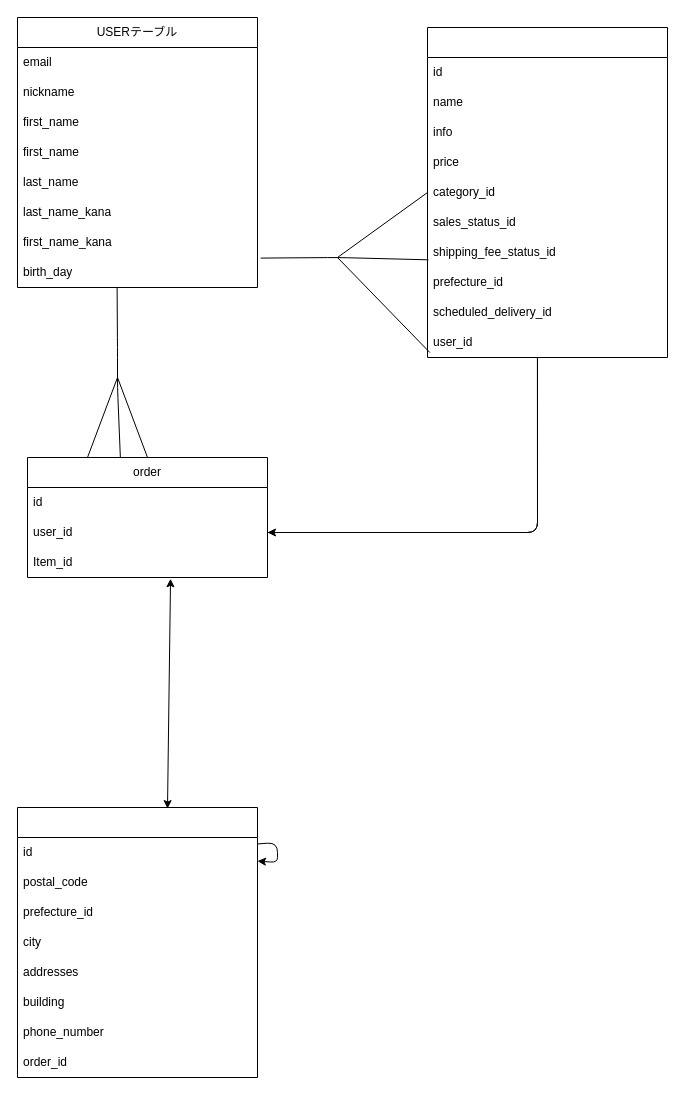
Image size: 685x1095. Some labels were removed from this diagram. Each missing label, with the box of its shape:
adresses: (16, 806, 258, 1078)
ITEMテーブル: (426, 26, 668, 358)
